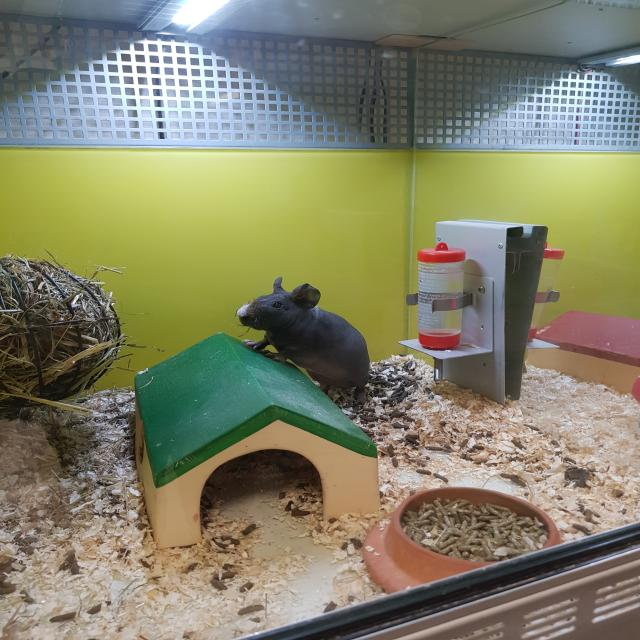guinea pig: (235, 274, 372, 409)
